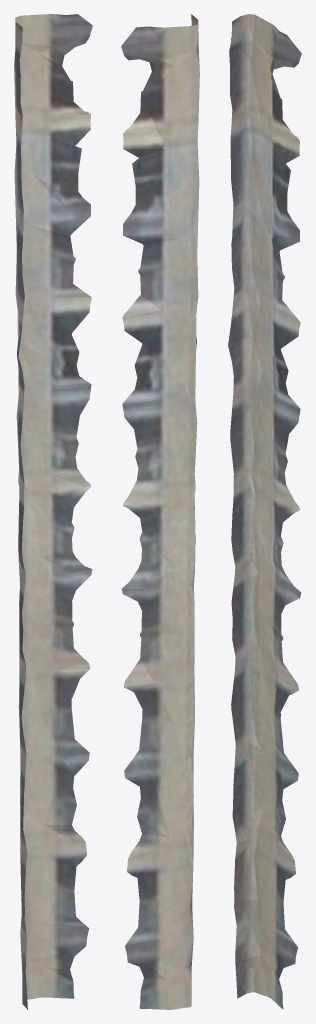
Rendered from Tile_+004_+002_L21_0004700.glb.
The picture shows the model from 3 angles, left to right: view 1: azimuth 30°, elevation 25°; view 2: azimuth 210°, elevation 25°; view 3: azimuth 330°, elevation 25°; orthographic projection.
Parts seen in each view (by area): view 1: rtc; view 2: rtc; view 3: rtc.
Boxes of the visible parts, <box> form: rtc: <box>14,14,92,1009</box>; rtc: <box>121,14,199,1009</box>; rtc: <box>228,14,301,1009</box>.
Bounding box in the file's own units: 1.89 × 23.9 × 0.5955.
Materials: 1 (1 with a texture image).
